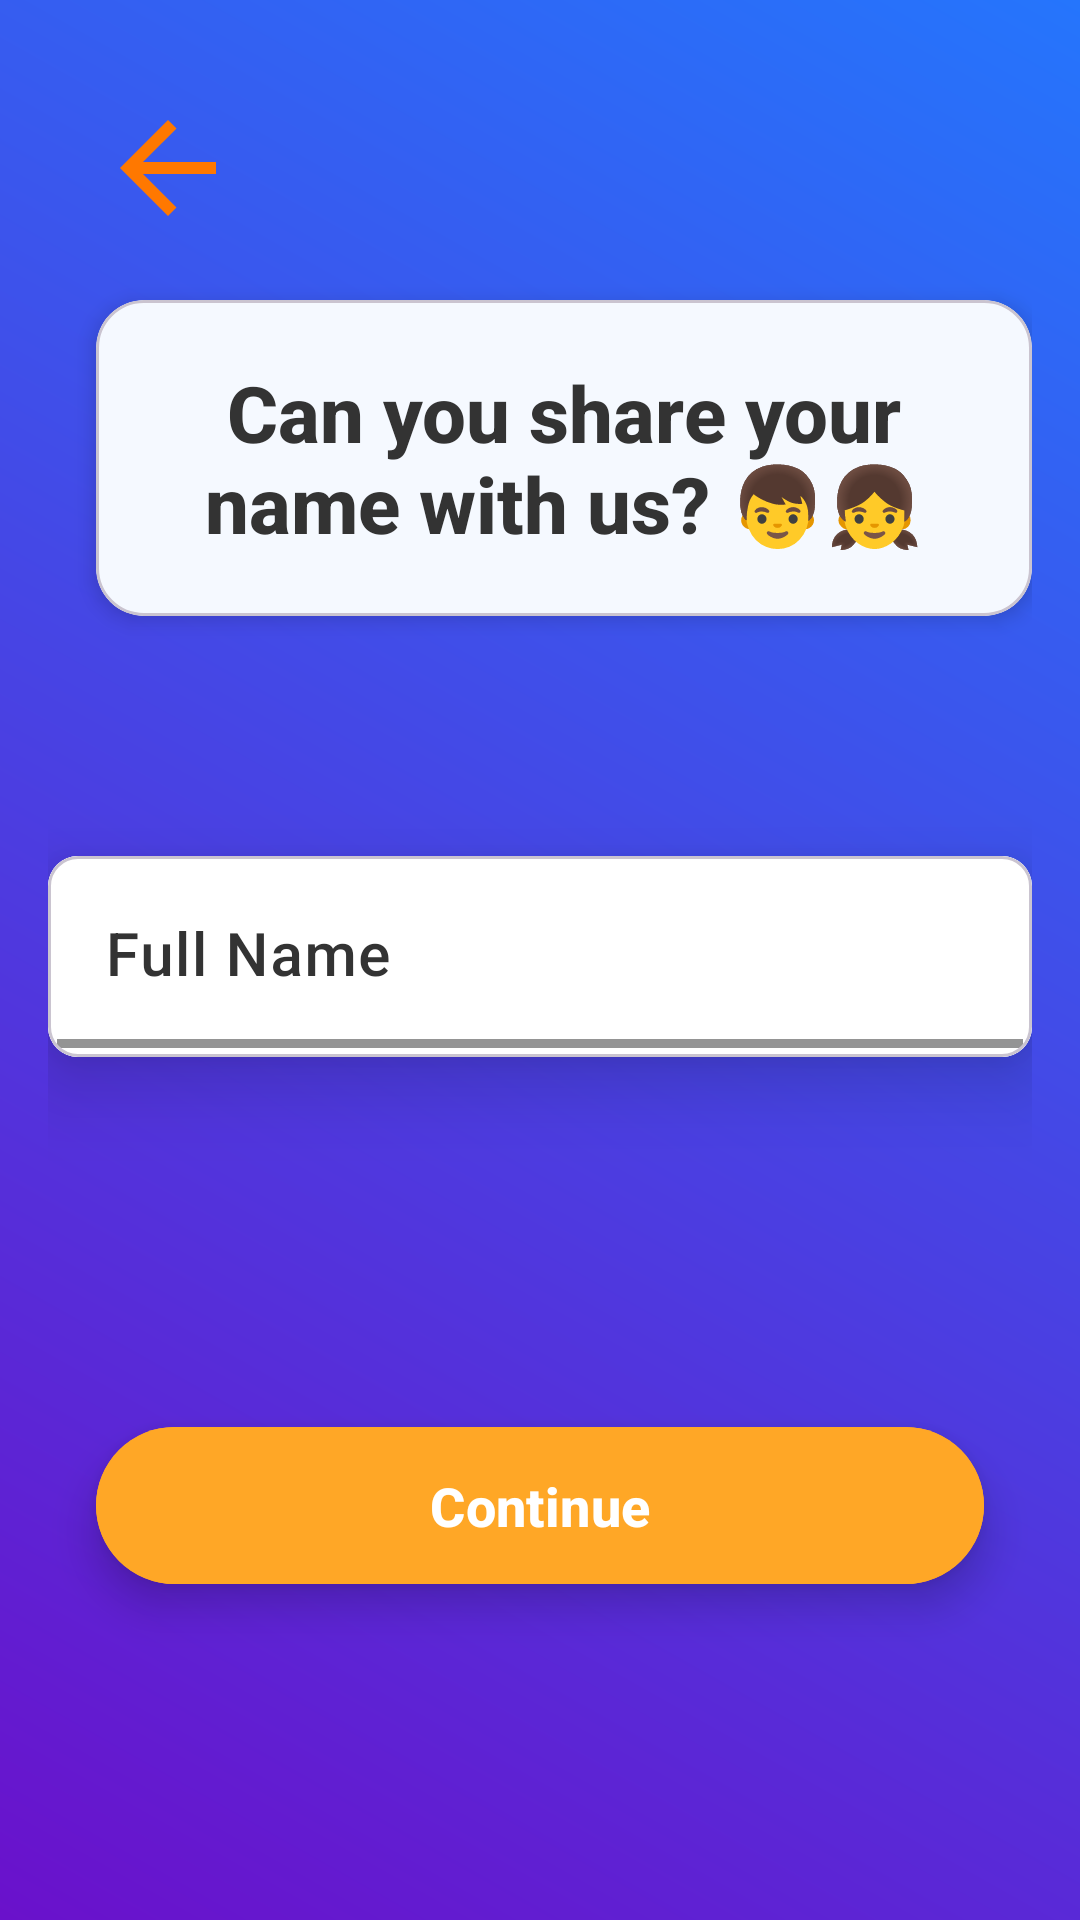

Point at icon controls on the screen. Image size 1080x1920, points as point (x, y).
Back Icon: point (168, 168)
